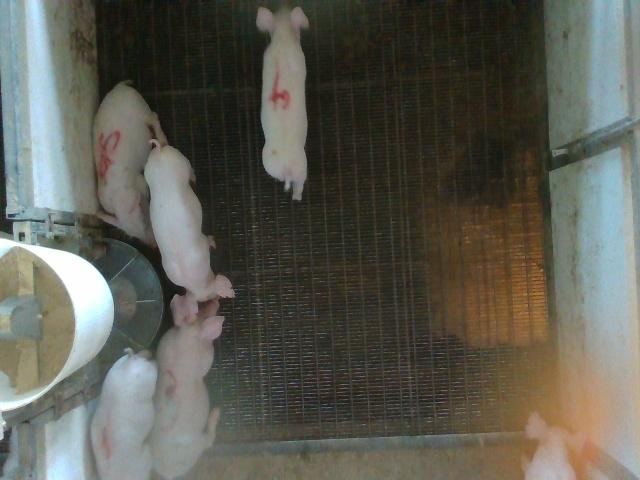pig-1: (91, 349, 158, 479)
pig-3: (150, 296, 224, 478)
pig-4: (256, 6, 309, 200)
pig-5: (94, 81, 166, 246)
